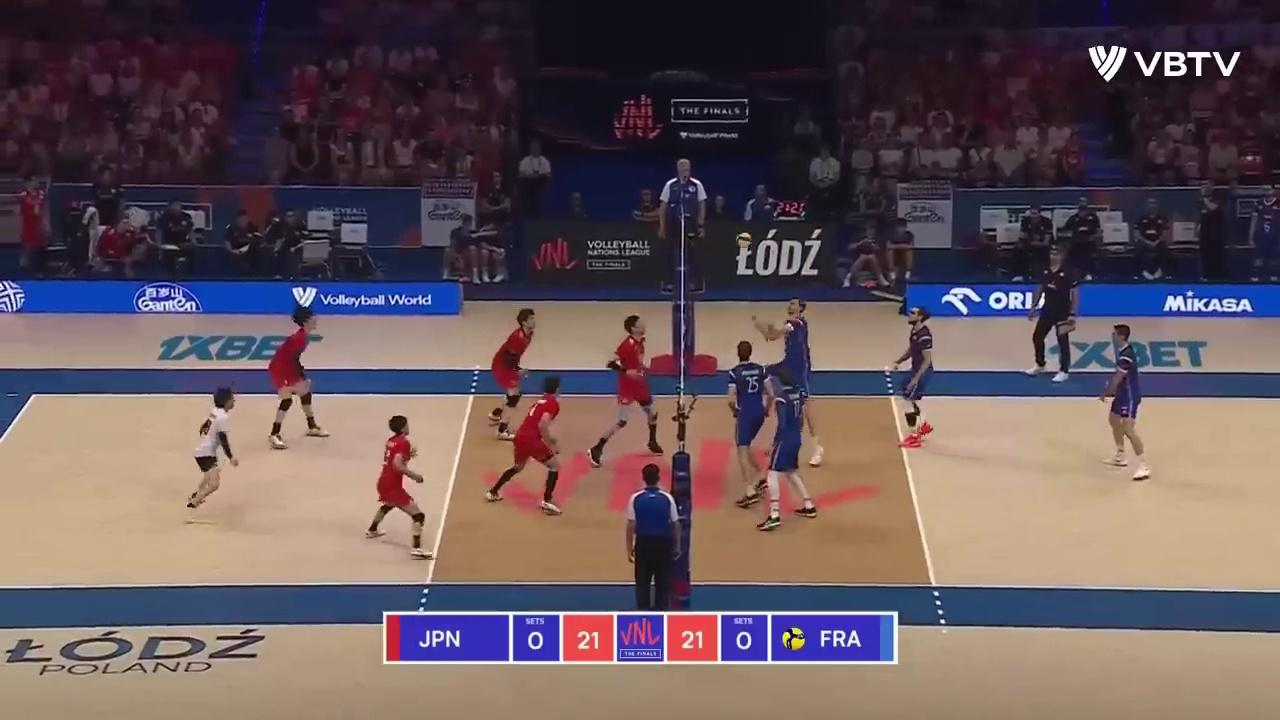ball: (737, 233, 751, 248)
